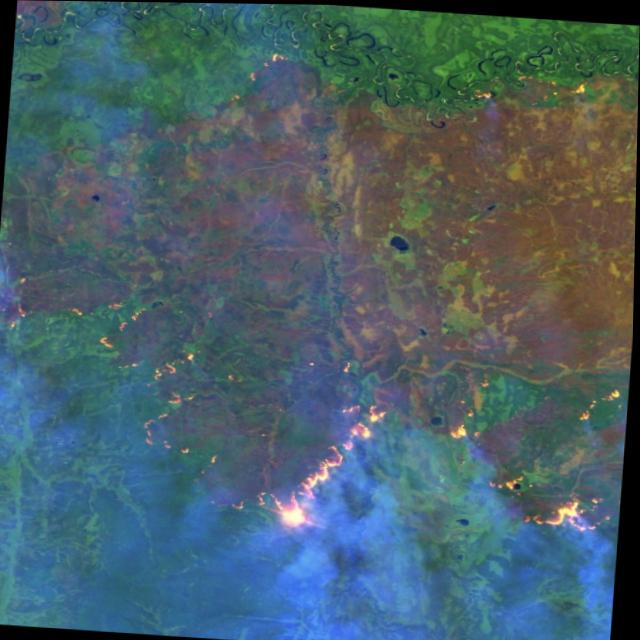fire: (438, 366, 631, 539), (210, 384, 408, 541)
